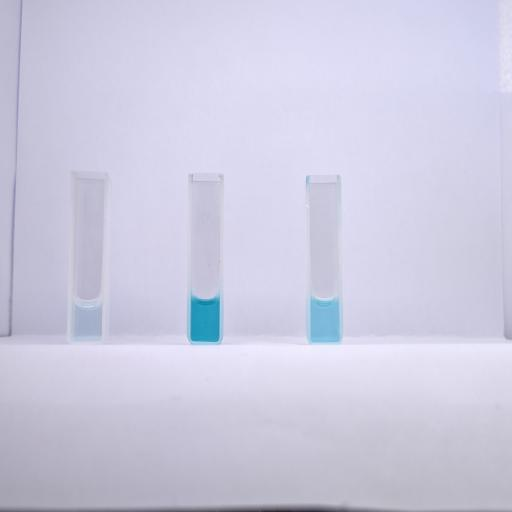cuvette: (66, 168, 112, 347), (304, 173, 344, 345), (186, 170, 225, 344)
liquid: (190, 296, 220, 342), (72, 298, 102, 340), (311, 298, 339, 342)
